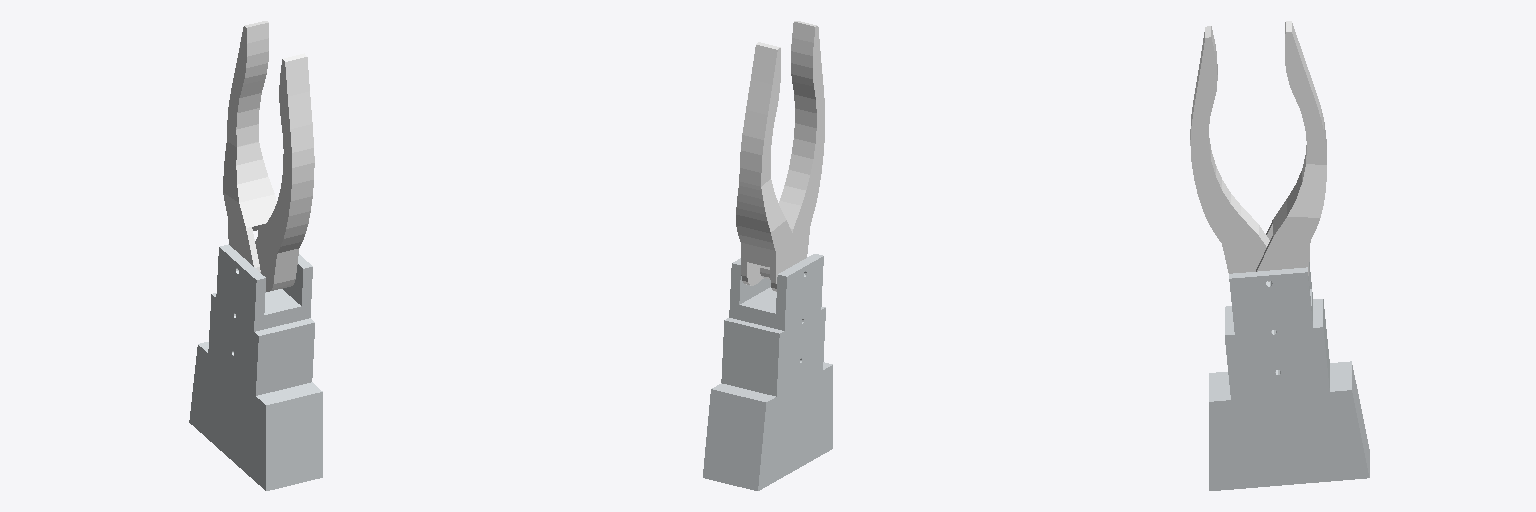
The robot description file, URDF, robot "gripper_demo2":
<?xml version="1.0" encoding="utf-8"?>
<!-- This URDF was automatically created by SolidWorks to URDF Exporter! Originally created by [author] ([email redacted]) 
     Commit Version: 1.5.1-0-g916b5db  Build Version: 1.5.7152.31018
     For more information, please see http://wiki.ros.org/sw_urdf_exporter -->
<robot
  name="gripper_demo2">
  <link
    name="base_link">
    <inertial>
      <origin
        xyz="0.019 0.040372 0.052951"
        rpy="0 0 0" />
      <mass
        value="0.78663" />
      <inertia
        ixx="0.0011861"
        ixy="8.1251E-21"
        ixz="9.4527E-21"
        iyy="0.00092077"
        iyz="4.1807E-05"
        izz="0.00046469" />
    </inertial>
    <visual>
      <origin
        xyz="0 0 0"
        rpy="0 0 0" />
      <geometry>
        <mesh
          filename="package://gripper_demo2/meshes/base_link.STL" />
      </geometry>
      <material
        name="">
        <color
          rgba="0.89804 0.91765 0.92941 1" />
      </material>
    </visual>
    <collision>
      <origin
        xyz="0 0 0"
        rpy="0 0 0" />
      <geometry>
        <mesh
          filename="package://gripper_demo2/meshes/base_link.STL" />
      </geometry>
    </collision>
  </link>
  <link
    name="finger1_link">
    <inertial>
      <origin
        xyz="0.019 0.051584 0.18424"
        rpy="0 0 0" />
      <mass
        value="0.0167" />
      <inertia
        ixx="2.845E-05"
        ixy="1.4925E-13"
        ixz="-1.4676E-12"
        iyy="2.8128E-05"
        iyz="-1.5257E-06"
        izz="1.7856E-06" />
    </inertial>
    <visual>
      <origin
        xyz="0 0 0"
        rpy="0 0 0" />
      <geometry>
        <mesh
          filename="package://gripper_demo2/meshes/finger1_link.STL" />
      </geometry>
      <material
        name="">
        <color
          rgba="1 1 1 1" />
      </material>
    </visual>
    <collision>
      <origin
        xyz="0 0 0"
        rpy="0 0 0" />
      <geometry>
        <mesh
          filename="package://gripper_demo2/meshes/finger1_link.STL" />
      </geometry>
    </collision>
  </link>
  <joint
    name="joint_1"
    type="continuous">
    <origin
      xyz="0 0 0"
      rpy="0 0 0" />
    <parent
      link="base_link" />
    <child
      link="finger1_link" />
    <axis
      xyz="1 0 0" />
  </joint>
  <link
    name="finger2_link">
    <inertial>
      <origin
        xyz="0.019 0.0093241 0.17673"
        rpy="0 0 0" />
      <mass
        value="0.016641" />
      <inertia
        ixx="3.3375E-05"
        ixy="6.5598E-11"
        ixz="-2.1921E-10"
        iyy="3.084E-05"
        iyz="7.2184E-06"
        izz="3.1595E-06" />
    </inertial>
    <visual>
      <origin
        xyz="0 0 0"
        rpy="0 0 0" />
      <geometry>
        <mesh
          filename="package://gripper_demo2/meshes/finger2_link.STL" />
      </geometry>
      <material
        name="">
        <color
          rgba="1 1 1 1" />
      </material>
    </visual>
    <collision>
      <origin
        xyz="0 0 0"
        rpy="0 0 0" />
      <geometry>
        <mesh
          filename="package://gripper_demo2/meshes/finger2_link.STL" />
      </geometry>
    </collision>
  </link>
  <joint
    name="joint_2"
    type="continuous">
    <origin
      xyz="0 0 0"
      rpy="0 0 0" />
    <parent
      link="base_link" />
    <child
      link="finger2_link" />
    <axis
      xyz="1 0 0" />
  </joint>
</robot>

--- Facts derived from the render (not from the file) ---
3 views of the same robot in one strip: view 1: azimuth 30°, elevation 25°; view 2: azimuth 150°, elevation 25°; view 3: azimuth 270°, elevation 25° (orthographic).
Robot: gripper_demo2 — 3 links, 2 joints (2 continuous); root link base_link; default pose: all joints at 0.
Links seen in each view (by area): view 1: base_link, finger1_link, finger2_link; view 2: base_link, finger1_link, finger2_link; view 3: base_link, finger1_link, finger2_link.
Boxes of the visible links, left/top/right/bottom form: base_link: left=189, top=244, right=322, bottom=490; finger1_link: left=223, top=21, right=276, bottom=272; finger2_link: left=255, top=53, right=314, bottom=291; base_link: left=703, top=254, right=832, bottom=490; finger1_link: left=736, top=42, right=800, bottom=291; finger2_link: left=760, top=21, right=824, bottom=278; base_link: left=1209, top=262, right=1369, bottom=490; finger1_link: left=1256, top=21, right=1326, bottom=281; finger2_link: left=1190, top=26, right=1269, bottom=273.
Size in the robot's own frame: 0.038 by 0.1001 by 0.2778 metres.
Meshes: 3 distinct files referenced, 3 mesh visuals loaded (3 binary STL).